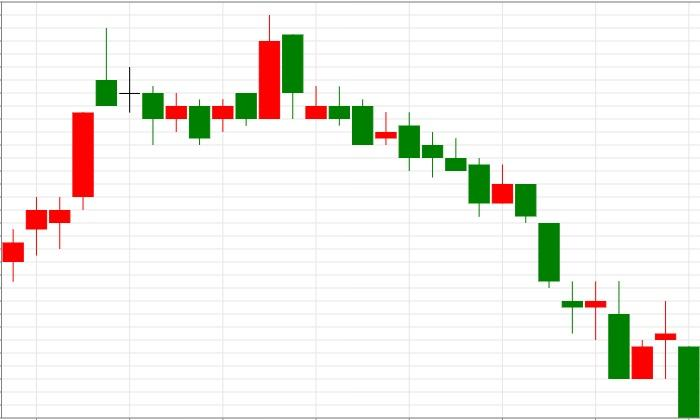shooting_star_fall: (2, 27, 117, 282)
